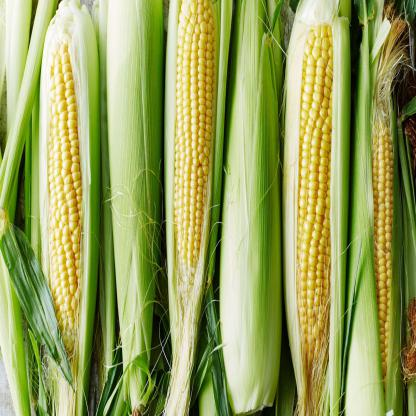corn: (283, 0, 348, 412), (220, 2, 282, 416), (105, 0, 165, 412), (349, 0, 404, 415), (39, 6, 99, 368), (166, 0, 219, 353)
